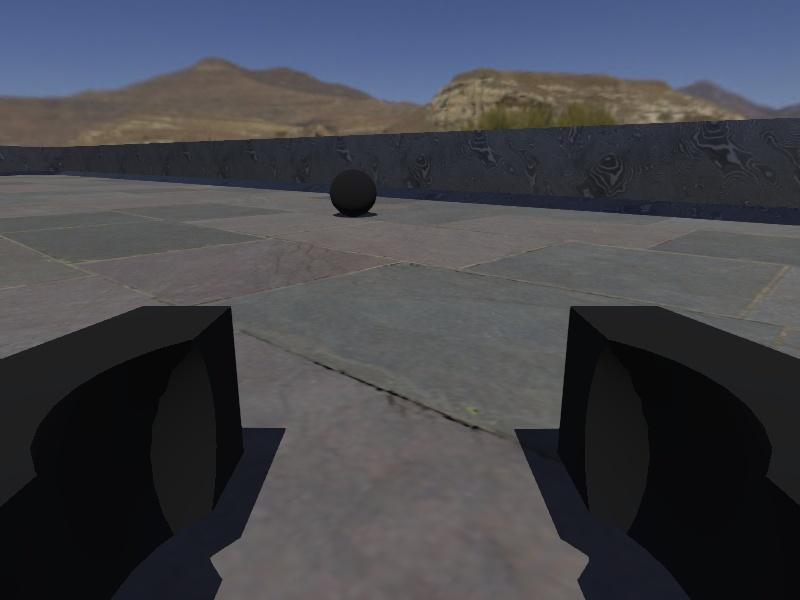black ball: (328, 167, 378, 216)
